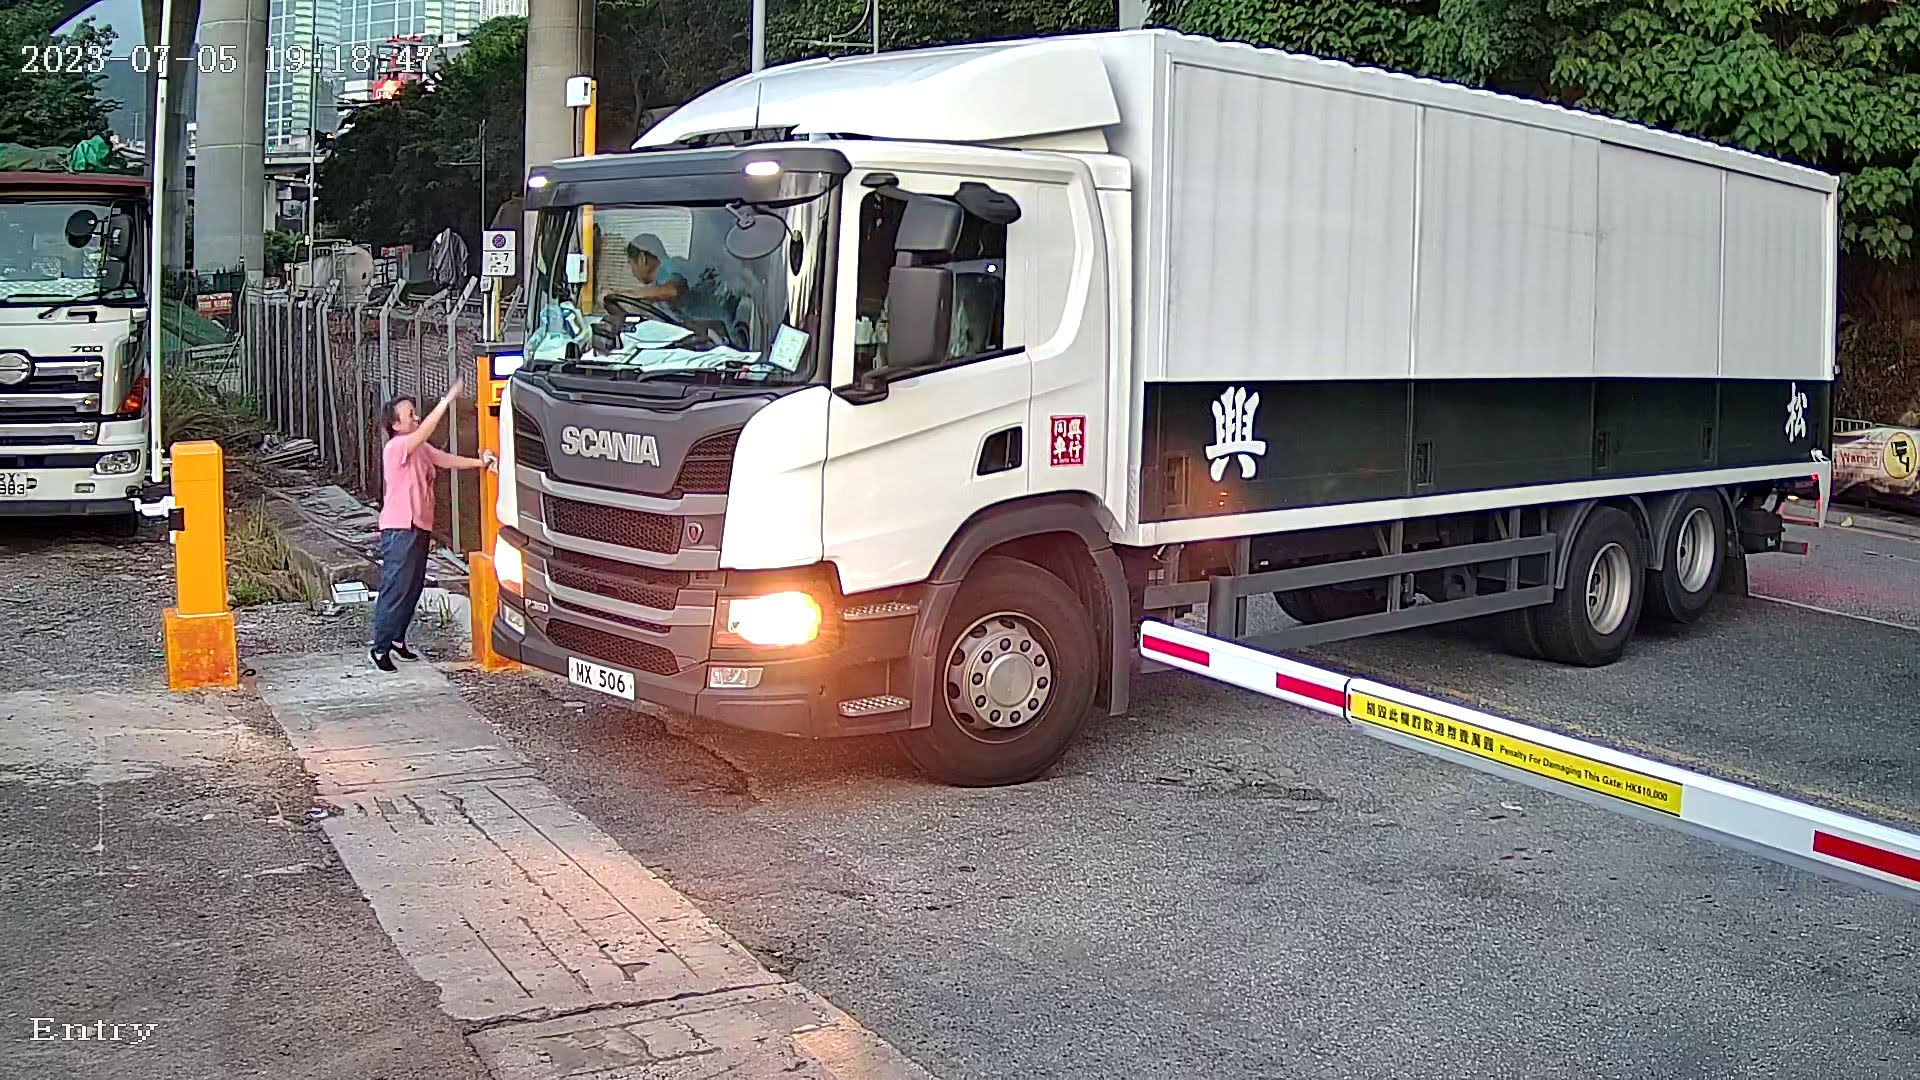truck_large: (450, 29, 1850, 777)
